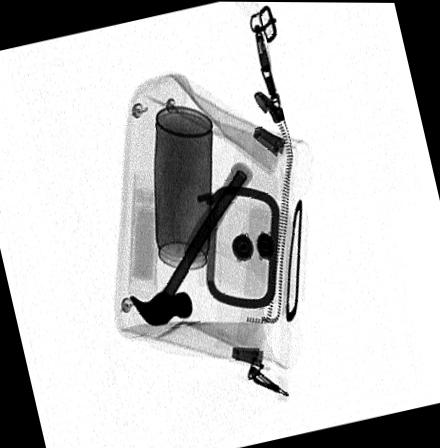Hammer: (128, 158, 253, 326)
